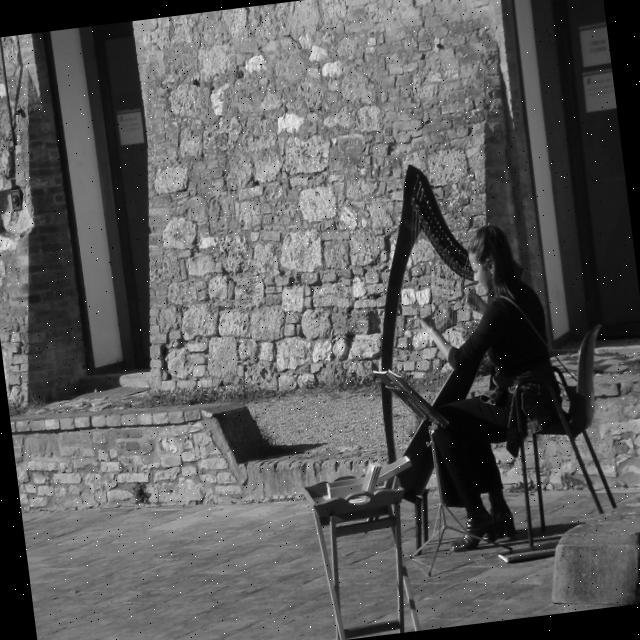harp: (348, 147, 552, 500)
